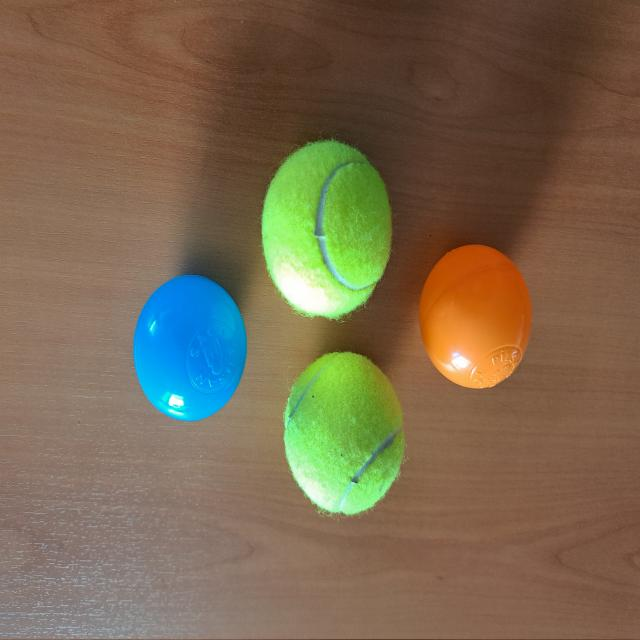blue: (132, 272, 251, 424)
orange: (417, 240, 535, 391)
tennis: (261, 137, 395, 326), (283, 350, 406, 516)
